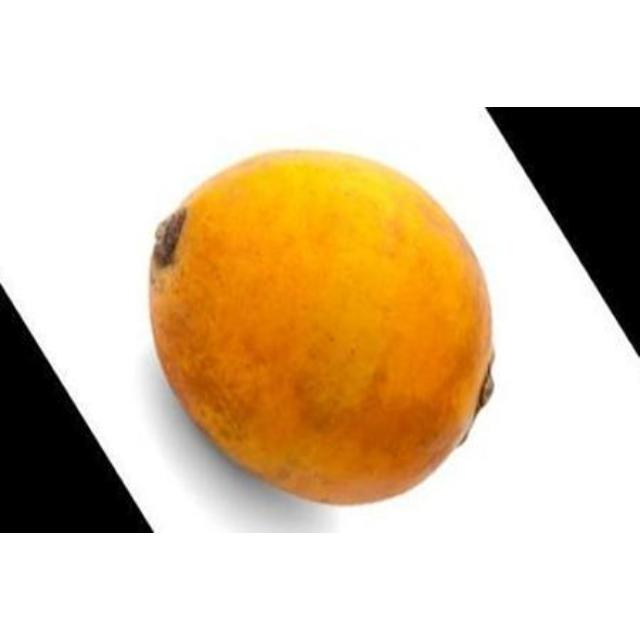good: (146, 153, 494, 508)
